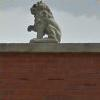Statue: (20, 4, 70, 52)
